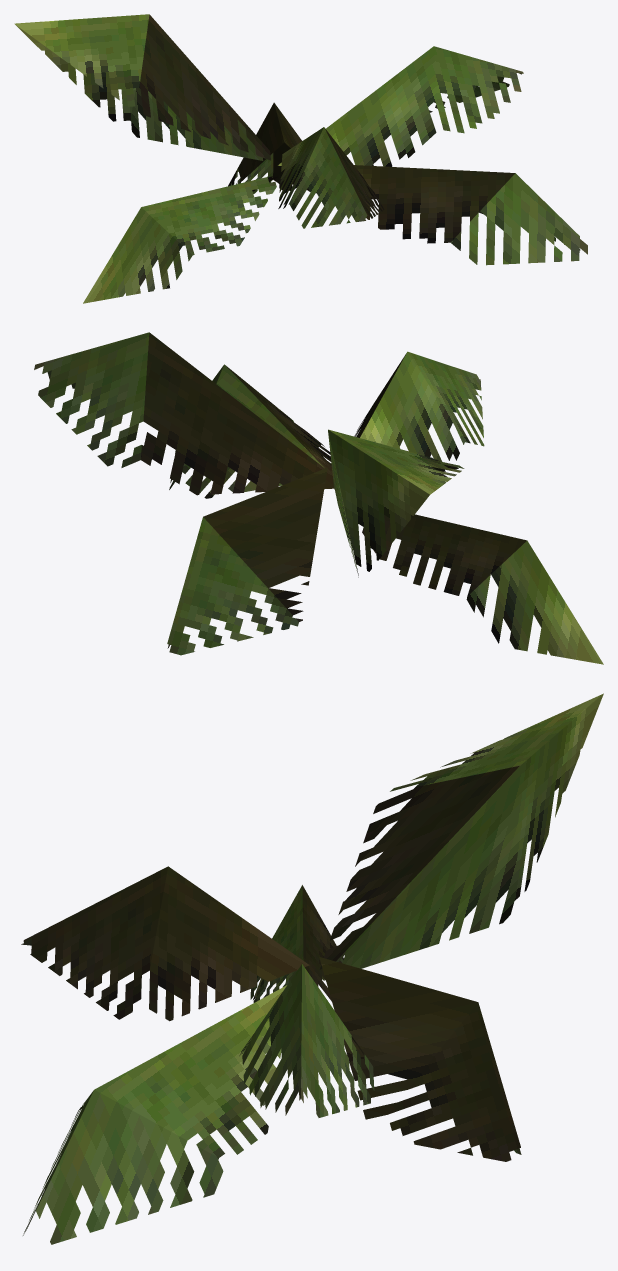
File: secondary_000.glb
3 views of the same model, one above another, from view 1: azimuth 30°, elevation 25°; view 2: azimuth 150°, elevation 25°; view 3: azimuth 270°, elevation 25° (orthographic). The views are drawn at different scales.
Parts seen in each view (by area): view 1: Object; view 2: Object; view 3: Object.
Part boxes in pixels (<box>): Object: <box>14,14,587,303</box>; Object: <box>34,332,603,664</box>; Object: <box>21,693,603,1244</box>.
Size of the model in its own units: 10.2 by 4.43 by 7.66.
Materials: 2 (2 with a texture image).
